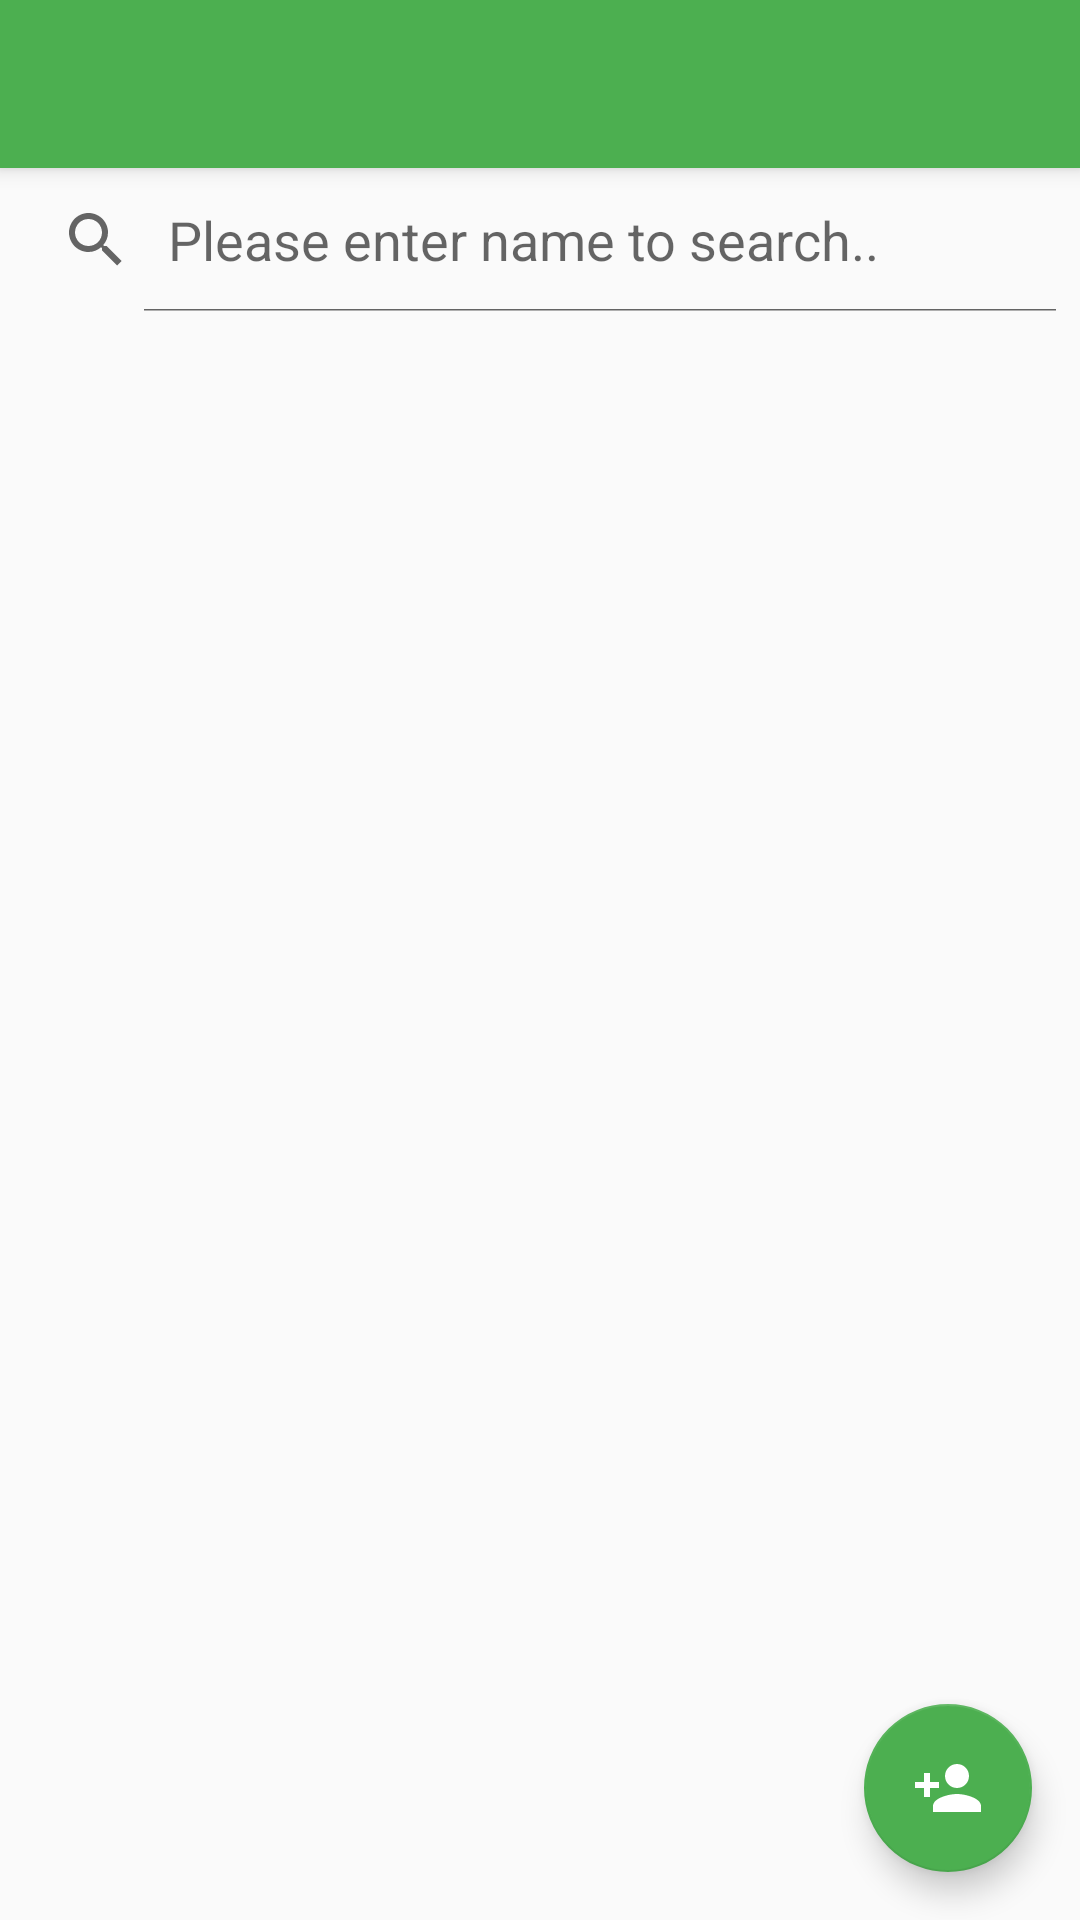

Icon bounding boxes for this 1080px x 1920px phone screenshot, format bbox=[x1, y1, x2, y2]:
person add: bbox=[864, 1704, 1032, 1872]
